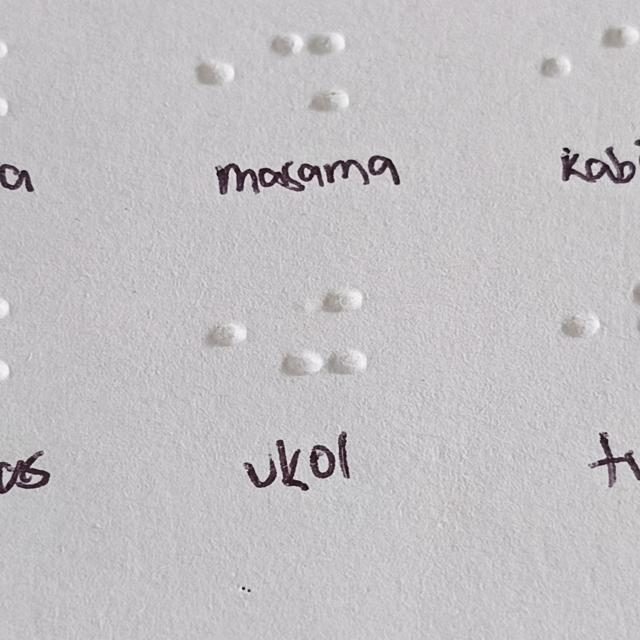dot_5: (162, 290, 247, 381), (160, 28, 235, 110)
two_cell_non_alphabet_masama: (275, 30, 350, 112)
two_cell_non_alphabet_ukol: (282, 286, 367, 377)
